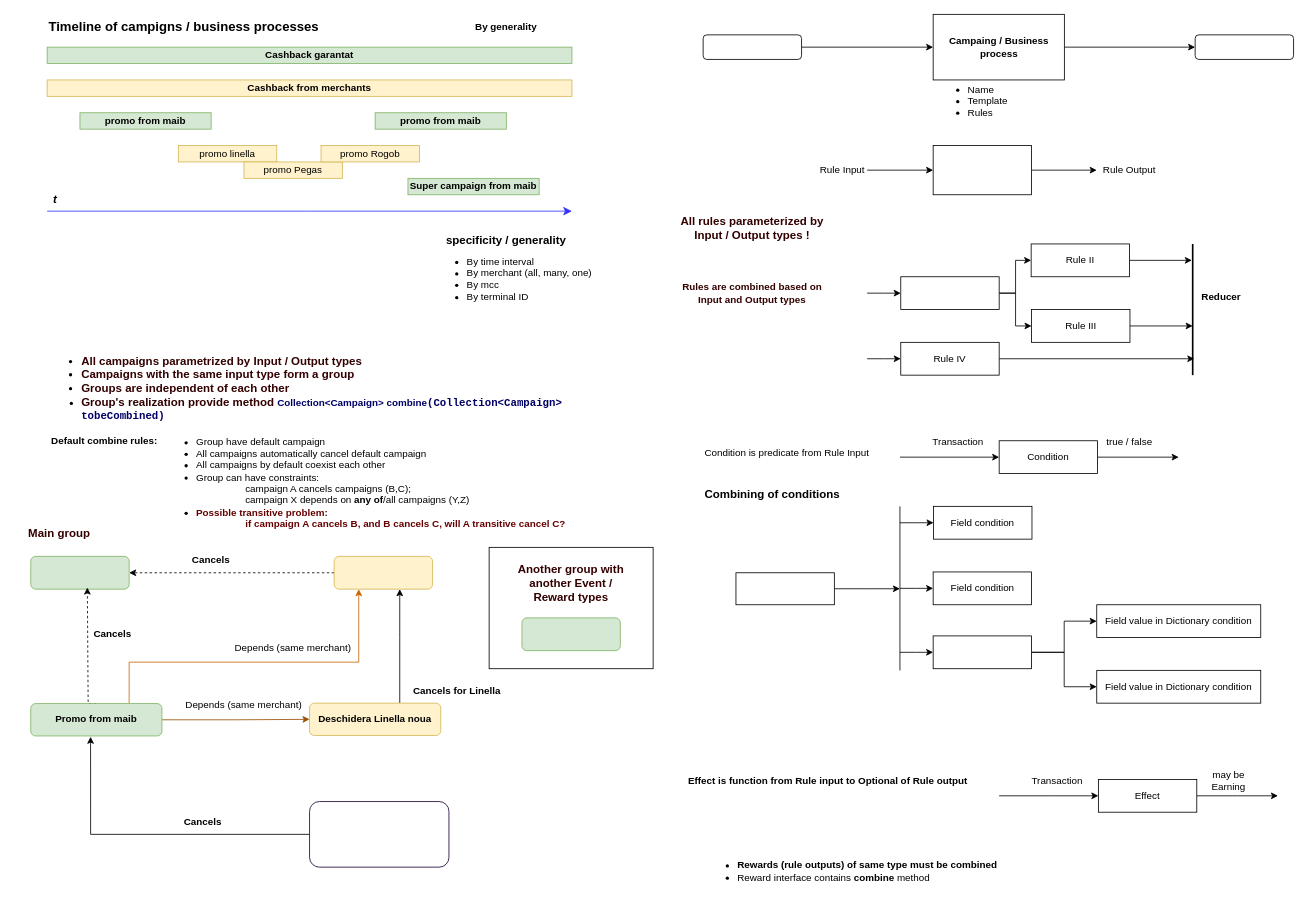
This 1308x923 diagram has some shape labels left out. The shapes that lost their labels are listed below. From the top down, each one's centre as x and y in pixels, then its label:
At (752,46): "Input (Event)".
At (1244,46): "Output (Reward)".
At (982,170): "RULE Condition Effect".
At (949,293): "Rule I".
At (79,572): "Cashback garantat default".
At (383,572): "Partners".
At (784,588): "AND condition".
At (570,634): "UEFA".
At (982,652): "NOT OR Condition".
At (379,834): "Another campaign".
